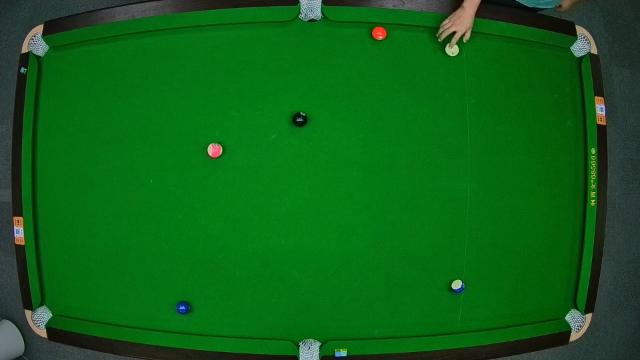bag1: (28, 34, 46, 54)
bag2: (298, 1, 324, 22)
bag3: (574, 34, 590, 54)
bag4: (32, 306, 49, 328)
bag5: (298, 342, 322, 360)
bag6: (566, 309, 586, 331)
ball0: (446, 42, 462, 58)
ball10: (451, 278, 465, 294)
ball12: (208, 142, 224, 158)
ball2: (176, 301, 192, 316)
ball5: (372, 25, 388, 41)
ball8: (294, 112, 308, 128)
